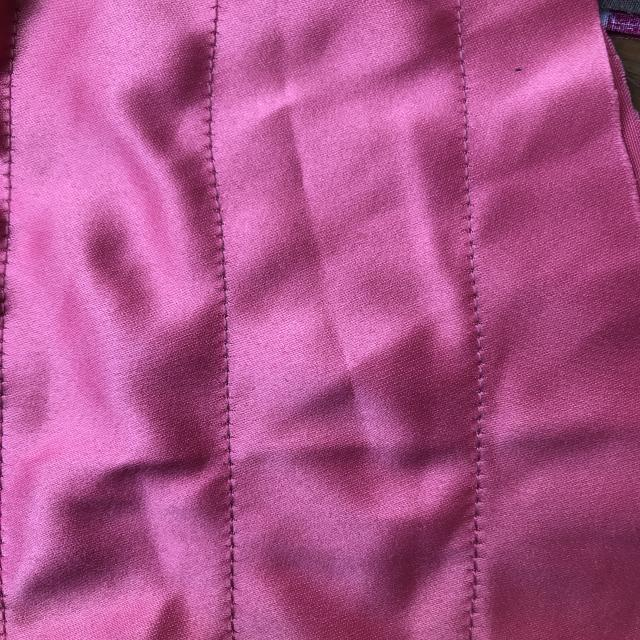good: (453, 186, 496, 395)
